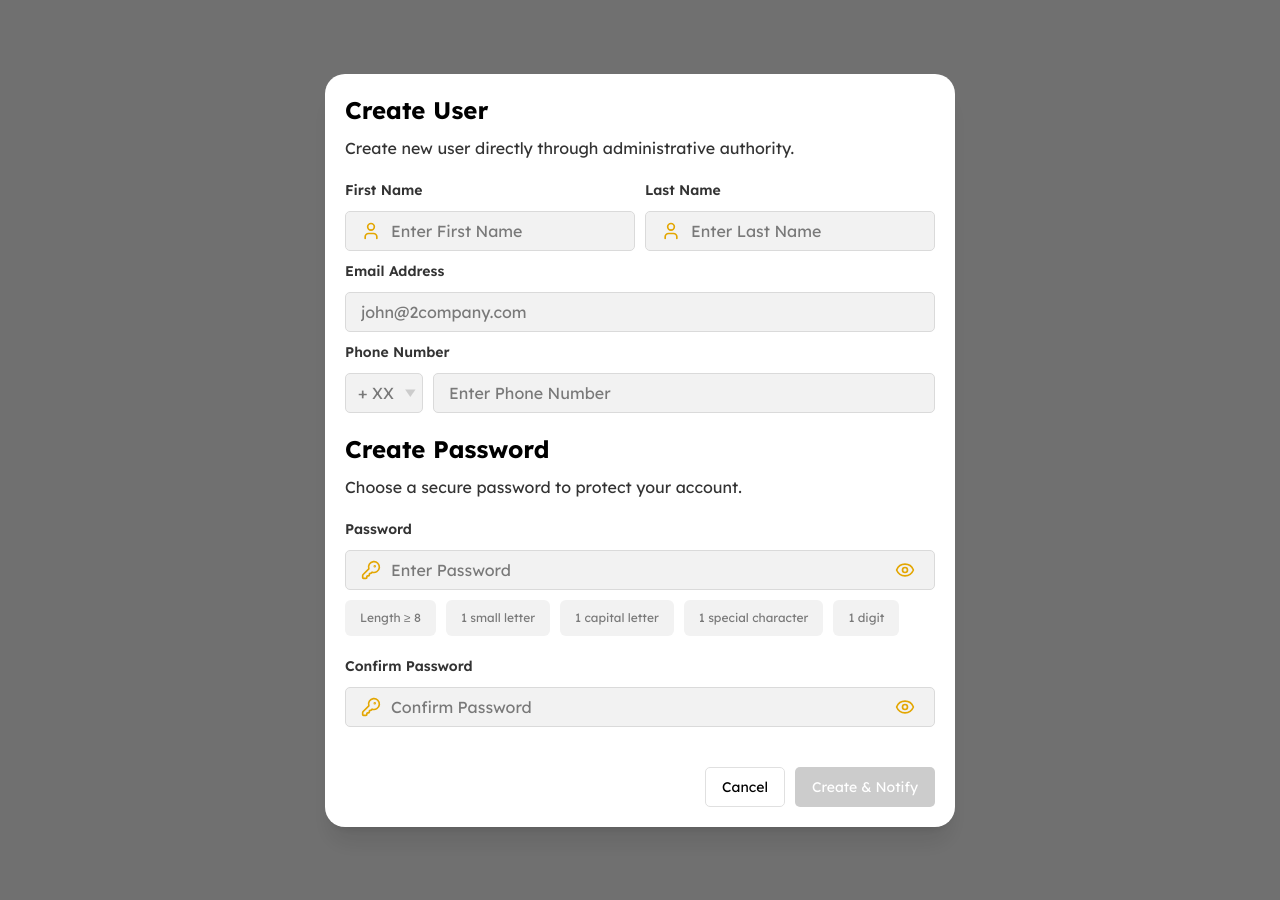
Test: CreateUserModal › keeps Create & Notify disabled until every requirement is met
This screenshot has width=1280, height=900.
Expected: the button "Create & Notify" is disabled, [795,766,935,806]
Type "Jon" into the field with placeholder "Enter First Name" at {"x": 505, "y": 230}, box [391,218,619,242]
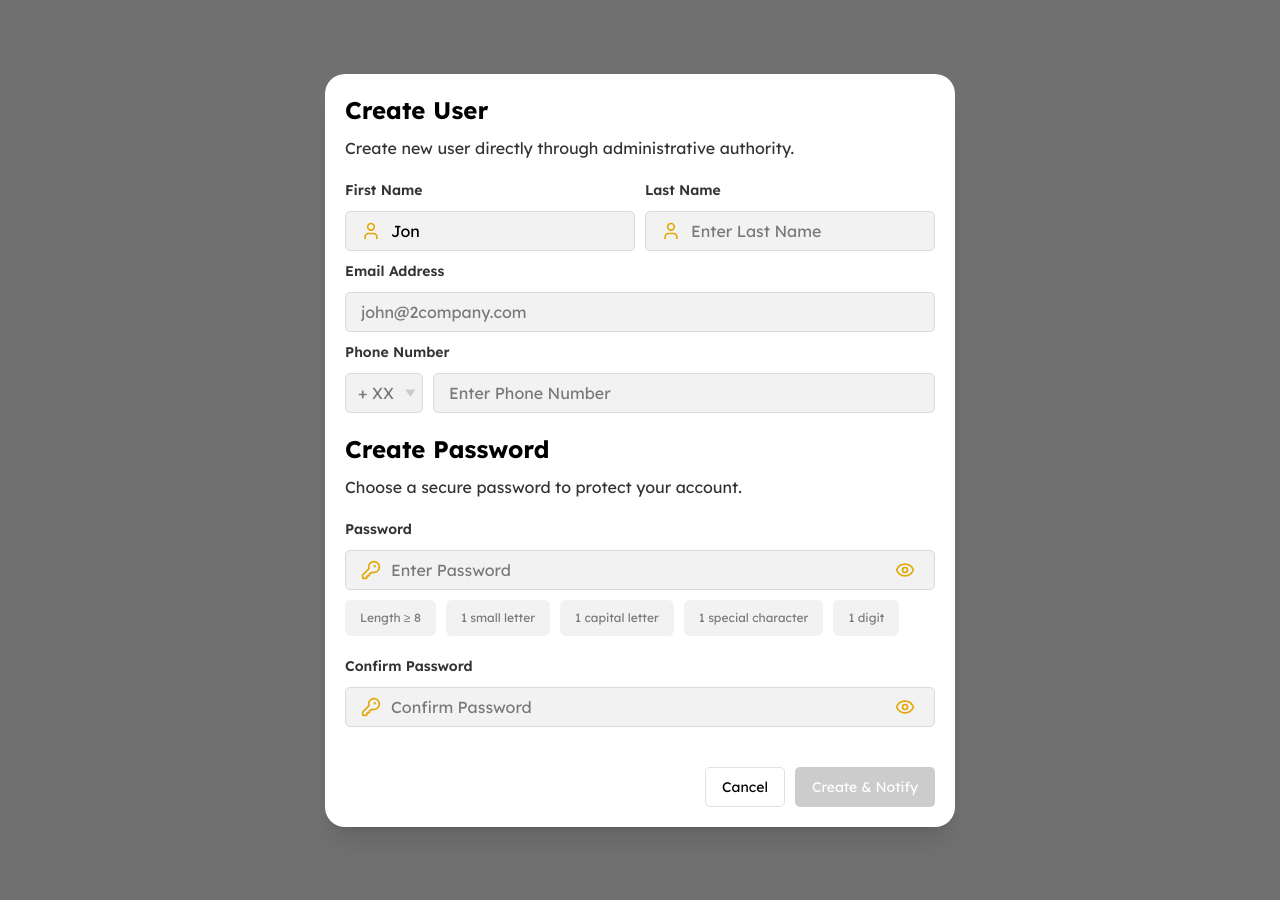
Type "Haley" into the field with placeholder "Enter Last Name" at {"x": 805, "y": 230}, box [691,218,919,242]
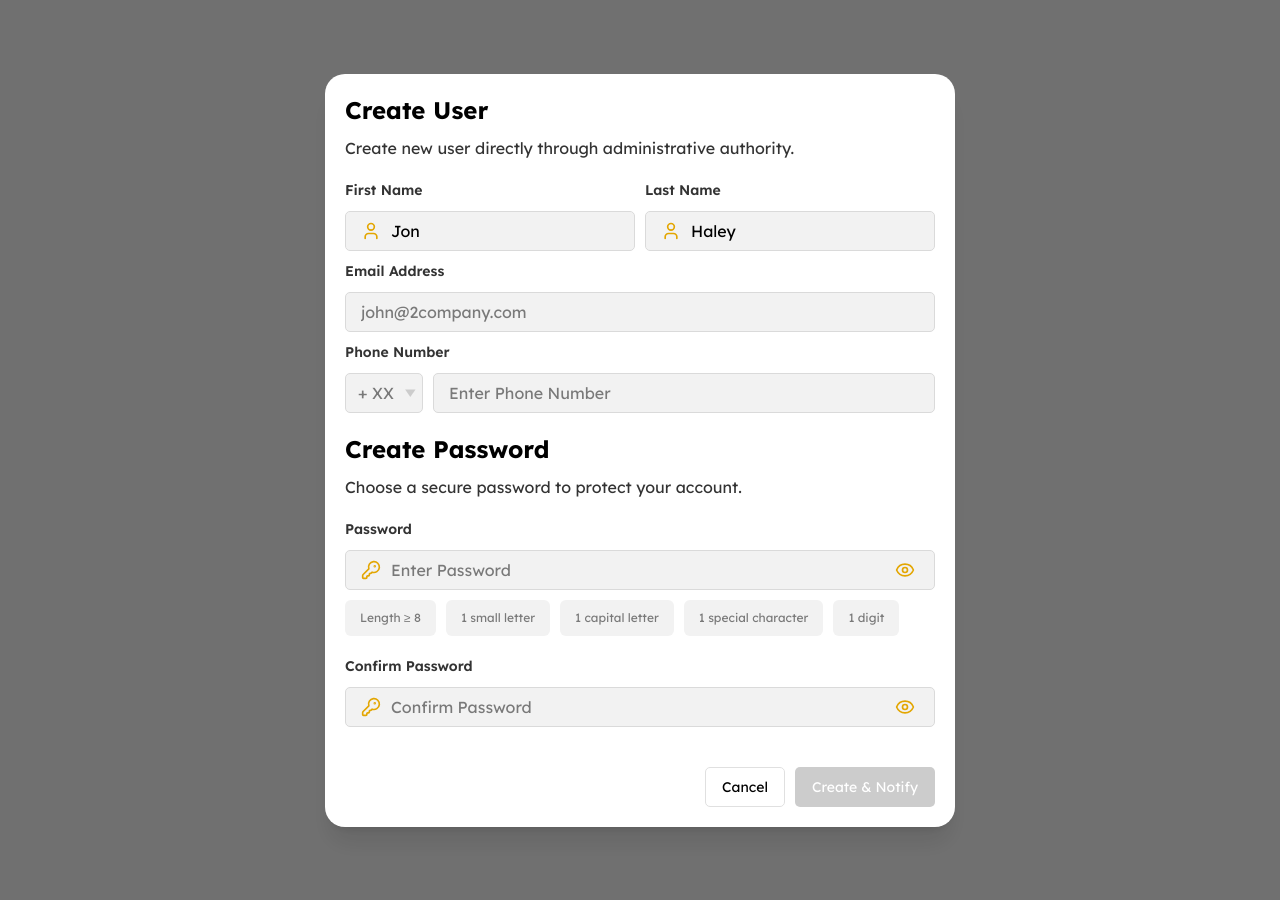
Type "jon.haley@example.com" into the field with placeholder "john@2company.com" at {"x": 640, "y": 312}, box [361,300,919,324]
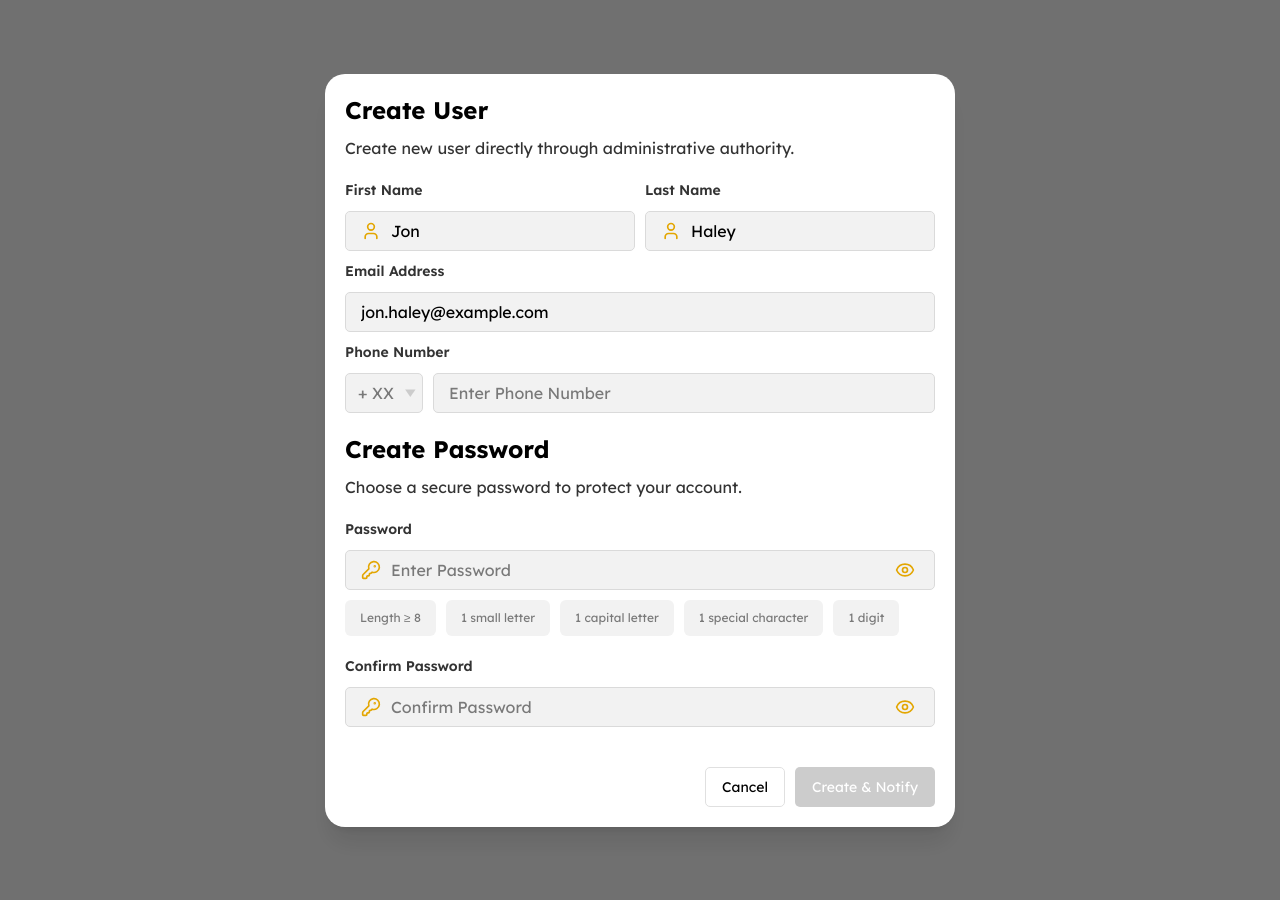
Type "Str0ng!Pass" into the password field with placeholder "Enter Password" at {"x": 636, "y": 570}, box [391,558,881,582]
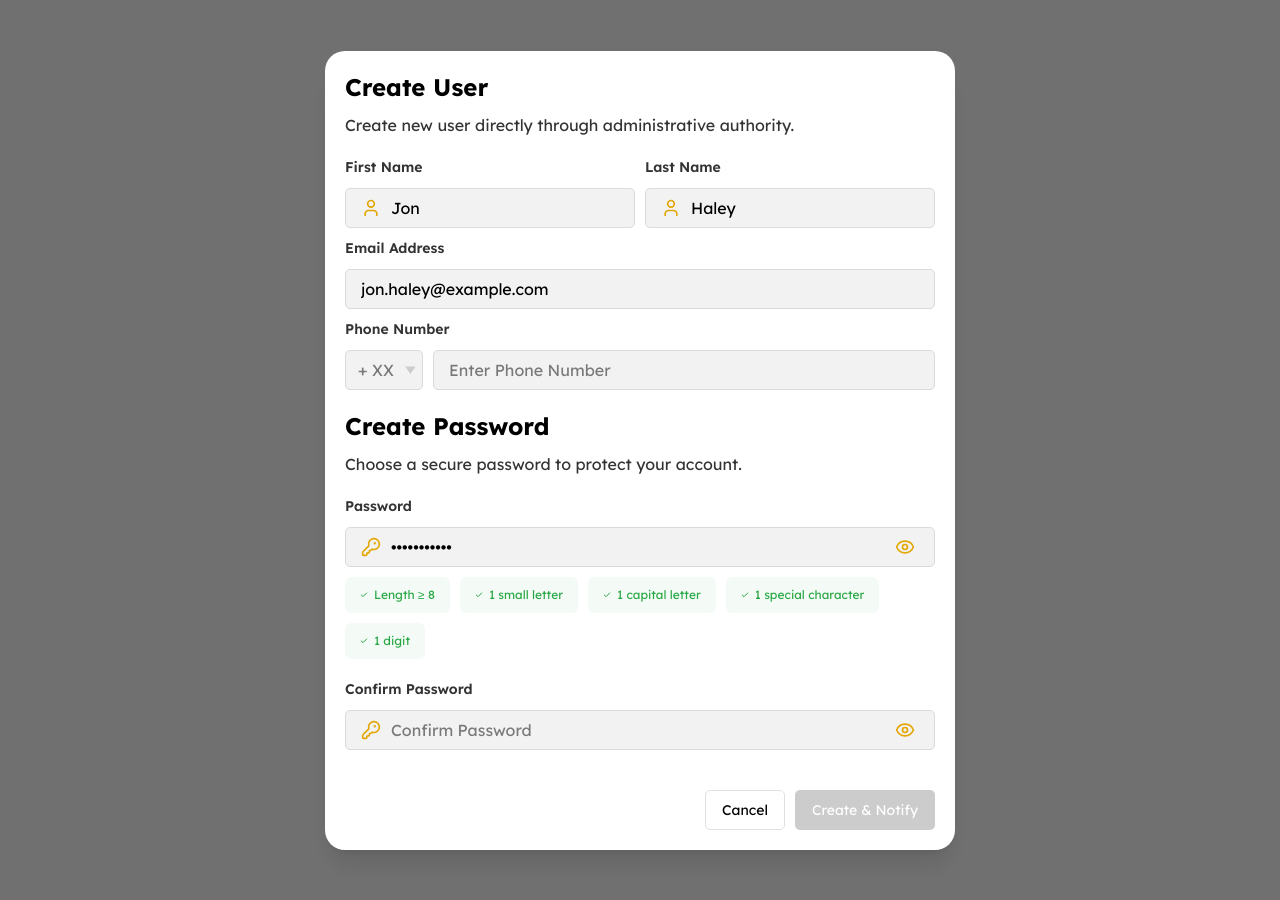
Type "Str0ng!Pass" into the password field with placeholder "Confirm Password" at {"x": 636, "y": 730}, box [391,718,881,742]
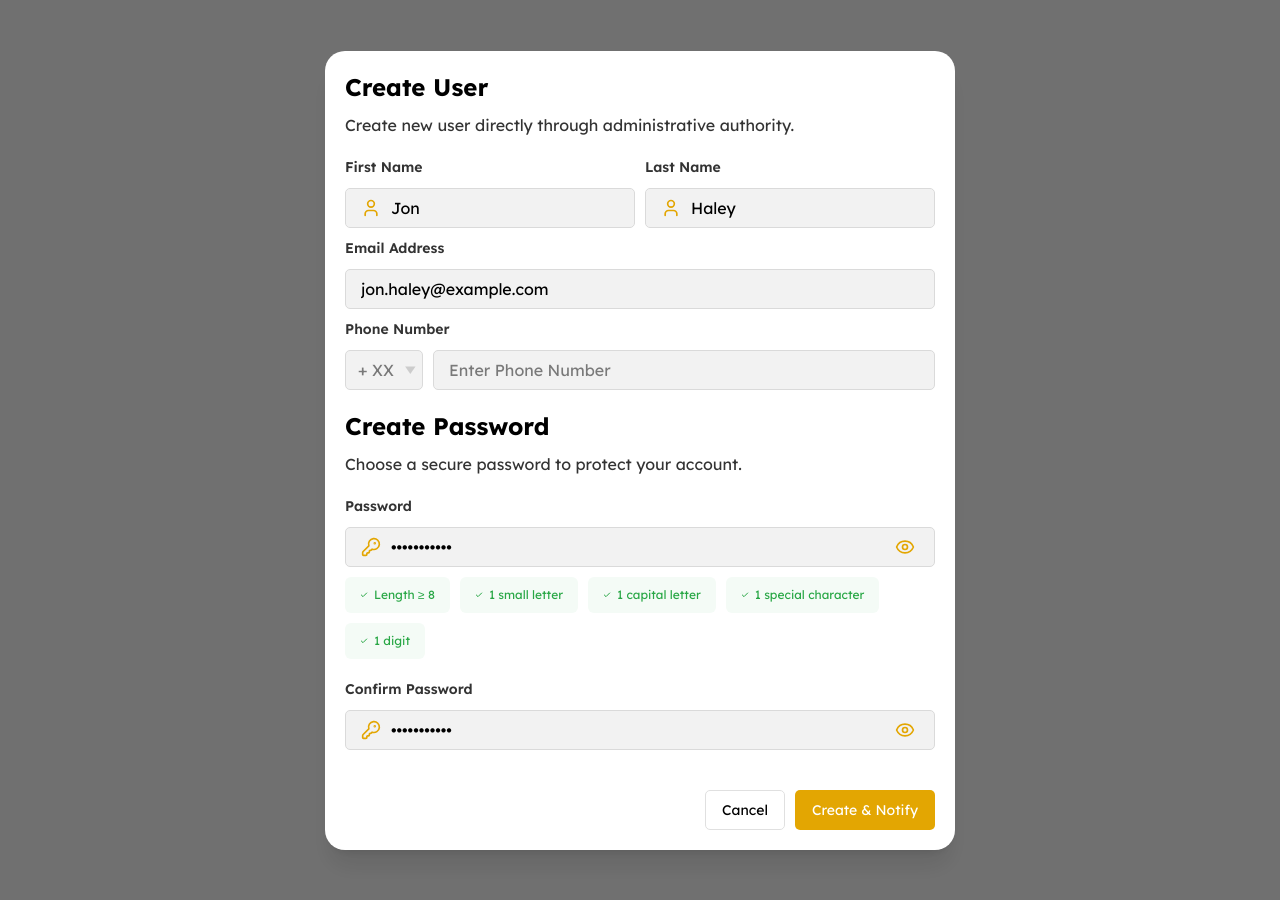
Expected: the button "Create & Notify" is enabled, [795,790,935,830]
